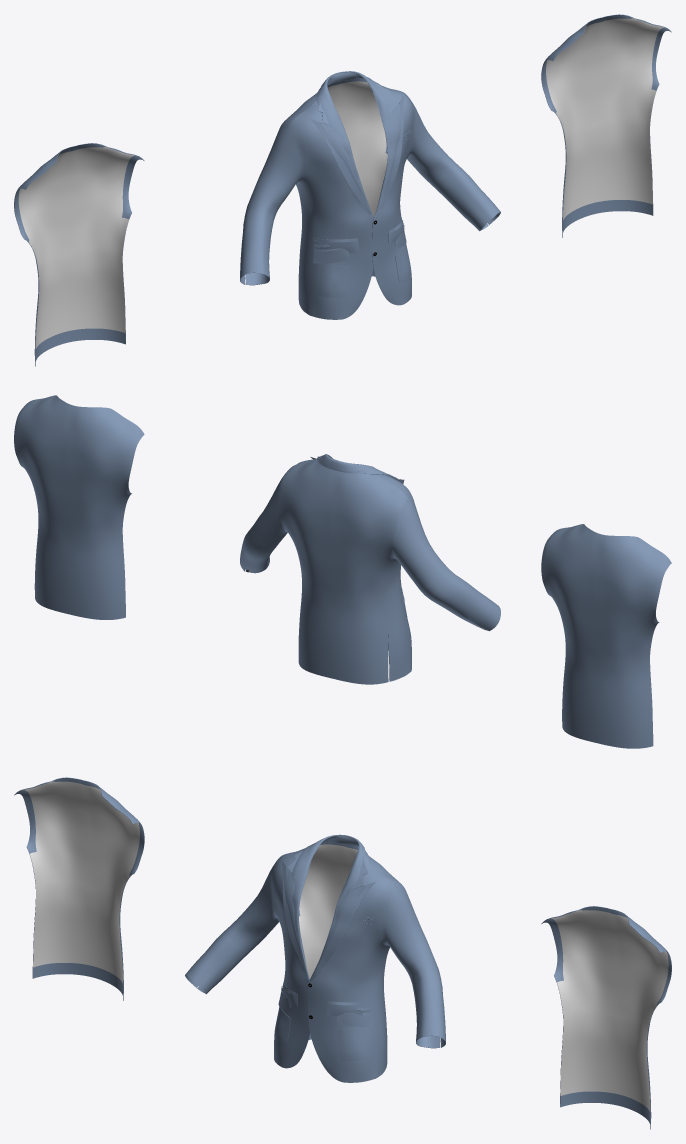
File: CarlosSA_Jacket_05.fbx
The picture shows the model from 3 angles, top to bottom: view 1: azimuth 30°, elevation 25°; view 2: azimuth 150°, elevation 25°; view 3: azimuth 330°, elevation 25°; orthographic projection.
Parts seen in each view (by area): view 1: SM_CarlosSA_Jacket_FixedClothing_0001, SM_CarlosSA_Jacket_BackVent_None, SM_CarlosSA_Jacket_BackVent_SingleVent, SM_CarlosSA_Jacket_BackVent_DoubleVent, SM_CarlosSA_Jacket_SingleBreasted_Lapel_Shawl, SM_CarlosSA_Jacket_WaistPockets_Patch, SM_CarlosSA_Jacket_SingleBreasted_Lapel_Peak12CM, SM_CarlosSA_Jacket_SingleBreasted_Lapel_Notched9CM, SM_CarlosSA_Jacket_WaistPockets_SlantedFlap, SM_CarlosSA_Jacket_WaistPockets_StraightFlap; view 2: SM_CarlosSA_Jacket_BackVent_SingleVent, SM_CarlosSA_Jacket_BackVent_None, SM_CarlosSA_Jacket_BackVent_DoubleVent, SM_CarlosSA_Jacket_FixedClothing_0001; view 3: SM_CarlosSA_Jacket_FixedClothing_0001, SM_CarlosSA_Jacket_BackVent_SingleVent, SM_CarlosSA_Jacket_BackVent_None, SM_CarlosSA_Jacket_BackVent_DoubleVent, SM_CarlosSA_Jacket_SingleBreasted_Lapel_Shawl, SM_CarlosSA_Jacket_WaistPockets_Patch, SM_CarlosSA_Jacket_SingleBreasted_Lapel_Peak12CM, SM_CarlosSA_Jacket_SingleBreasted_Lapel_Notched9CM, SM_CarlosSA_Jacket_WaistPockets_StraightFlap, SM_CarlosSA_Jacket_WaistPockets_SlantedFlap.
Part boxes in pixels (x1,y1,x2,y2): SM_CarlosSA_Jacket_FixedClothing_0001: (240, 72, 500, 319); SM_CarlosSA_Jacket_BackVent_None: (541, 14, 671, 237); SM_CarlosSA_Jacket_BackVent_SingleVent: (14, 143, 144, 366); SM_CarlosSA_Jacket_BackVent_DoubleVent: (281, 79, 399, 299); SM_CarlosSA_Jacket_SingleBreasted_Lapel_Shawl: (316, 71, 390, 224); SM_CarlosSA_Jacket_WaistPockets_Patch: (318, 244, 411, 297); SM_CarlosSA_Jacket_SingleBreasted_Lapel_Peak12CM: (310, 79, 404, 216); SM_CarlosSA_Jacket_SingleBreasted_Lapel_Notched9CM: (317, 71, 403, 219); SM_CarlosSA_Jacket_WaistPockets_SlantedFlap: (313, 231, 406, 263); SM_CarlosSA_Jacket_WaistPockets_StraightFlap: (322, 220, 404, 253); SM_CarlosSA_Jacket_BackVent_SingleVent: (541, 524, 671, 748); SM_CarlosSA_Jacket_BackVent_None: (14, 395, 144, 619); SM_CarlosSA_Jacket_BackVent_DoubleVent: (277, 460, 407, 684); SM_CarlosSA_Jacket_FixedClothing_0001: (240, 456, 500, 681); SM_CarlosSA_Jacket_FixedClothing_0001: (185, 835, 445, 1082); SM_CarlosSA_Jacket_BackVent_SingleVent: (14, 777, 144, 1000); SM_CarlosSA_Jacket_BackVent_None: (541, 906, 671, 1129); SM_CarlosSA_Jacket_BackVent_DoubleVent: (286, 842, 404, 1063); SM_CarlosSA_Jacket_SingleBreasted_Lapel_Shawl: (291, 834, 368, 987); SM_CarlosSA_Jacket_WaistPockets_Patch: (274, 1007, 367, 1061); SM_CarlosSA_Jacket_SingleBreasted_Lapel_Peak12CM: (281, 853, 375, 979); SM_CarlosSA_Jacket_SingleBreasted_Lapel_Notched9CM: (282, 840, 367, 981); SM_CarlosSA_Jacket_WaistPockets_StraightFlap: (282, 983, 363, 1016); SM_CarlosSA_Jacket_WaistPockets_SlantedFlap: (278, 992, 372, 1027).
Size of the model in its own units: 245 by 77.76 by 31.7.
